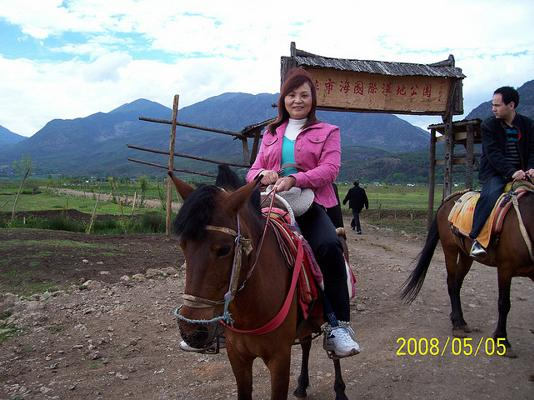person: (178, 75, 363, 359)
